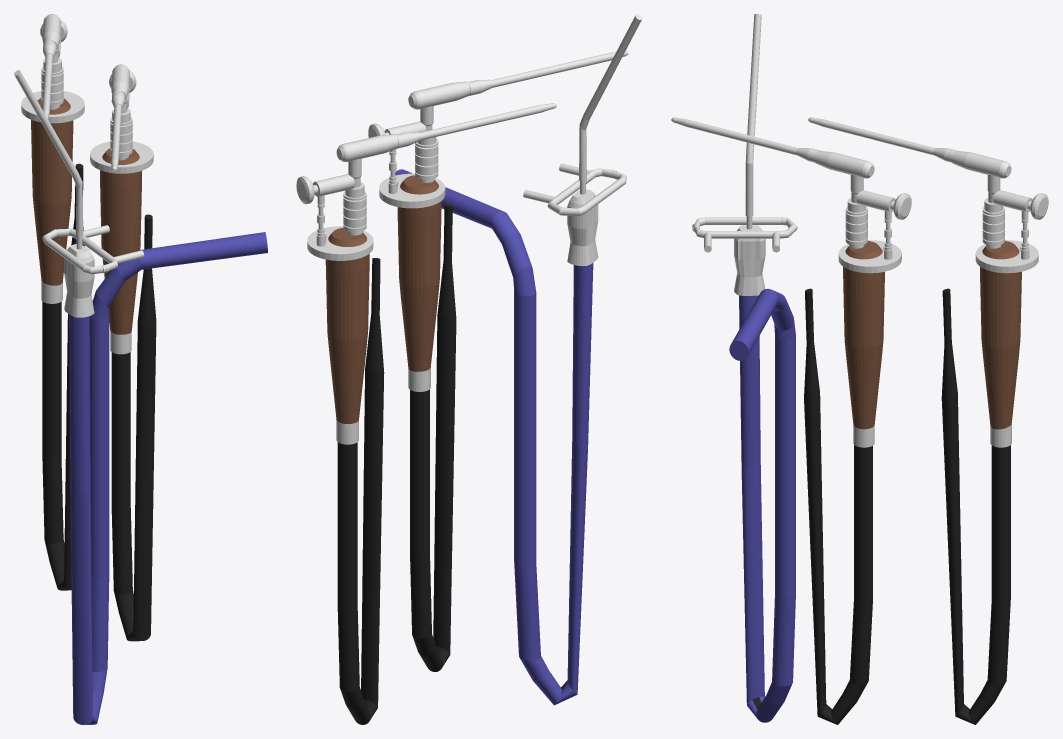
Rendered from ent unit 1100.fbx.
The picture shows the model from 3 angles, left to right: view 1: azimuth 30°, elevation 25°; view 2: azimuth 150°, elevation 25°; view 3: azimuth 270°, elevation 25°; orthographic projection. The views are drawn at different scales.
Visible parts, largest first — view 1: Cylinder.002, Cylinder.083, Cylinder.082, Cylinder.032, Cylinder.056, Cylinder.001, Cylinder.009, Cylinder.079, Cylinder.055, Cylinder.008, Cylinder.005, Cylinder.057 (+5 smaller); view 2: Cylinder.002, Cylinder.082, Cylinder.083, Cylinder.056, Cylinder.032, Cylinder.001, Cylinder.009, Cylinder.079, Cylinder.055, Cylinder.033, Cylinder.061, Cylinder.037 (+4 smaller); view 3: Cylinder.002, Cylinder.082, Cylinder.083, Cylinder.032, Cylinder.056, Cylinder.001, Cylinder.009, Cylinder.079, Cylinder.055, Cylinder.037, Cylinder.061, Cylinder.057 (+3 smaller).
Boxes of the visible parts, x1=… form: Cylinder.002: x1=69, y1=232, x2=267, y2=724; Cylinder.083: x1=111, y1=214, x2=156, y2=641; Cylinder.082: x1=42, y1=163, x2=84, y2=590; Cylinder.032: x1=31, y1=98, x2=73, y2=285; Cylinder.056: x1=100, y1=148, x2=141, y2=334; Cylinder.001: x1=64, y1=244, x2=94, y2=317; Cylinder.009: x1=14, y1=70, x2=83, y2=236; Cylinder.079: x1=90, y1=141, x2=153, y2=173; Cylinder.055: x1=21, y1=91, x2=84, y2=123; Cylinder.008: x1=42, y1=229, x2=108, y2=274; Cylinder.005: x1=54, y1=228, x2=117, y2=273; Cylinder.057: x1=111, y1=104, x2=121, y2=171; Cylinder.002: x1=395, y1=169, x2=593, y2=705; Cylinder.082: x1=337, y1=258, x2=384, y2=724; Cylinder.083: x1=410, y1=205, x2=456, y2=671; Cylinder.056: x1=397, y1=175, x2=441, y2=371; Cylinder.032: x1=325, y1=228, x2=369, y2=424; Cylinder.001: x1=567, y1=189, x2=598, y2=265; Cylinder.009: x1=579, y1=14, x2=642, y2=181; Cylinder.079: x1=379, y1=173, x2=445, y2=208; Cylinder.055: x1=307, y1=226, x2=373, y2=260; Cylinder.033: x1=420, y1=103, x2=556, y2=140; Cylinder.061: x1=408, y1=81, x2=470, y2=109; Cylinder.037: x1=336, y1=134, x2=398, y2=161; Cylinder.002: x1=729, y1=288, x2=795, y2=722; Cylinder.082: x1=941, y1=288, x2=1010, y2=724; Cylinder.083: x1=804, y1=288, x2=872, y2=724; Cylinder.032: x1=980, y1=241, x2=1021, y2=429; Cylinder.056: x1=843, y1=241, x2=884, y2=429; Cylinder.001: x1=734, y1=225, x2=765, y2=295; Cylinder.009: x1=745, y1=14, x2=761, y2=216; Cylinder.079: x1=838, y1=240, x2=901, y2=273; Cylinder.055: x1=975, y1=240, x2=1038, y2=273; Cylinder.037: x1=951, y1=151, x2=1011, y2=178; Cylinder.061: x1=814, y1=151, x2=874, y2=178; Cylinder.057: x1=671, y1=117, x2=797, y2=155.
Size of the model in its own units: 11412 by 29936 by 15229.
